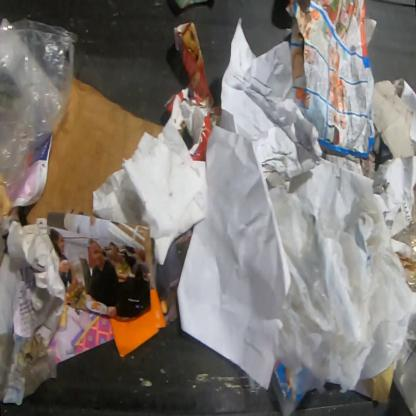cardboard: (25, 76, 165, 224), (164, 23, 221, 162), (369, 76, 415, 196), (108, 288, 169, 358), (0, 171, 13, 221)
soft_plastic: (266, 170, 363, 396), (321, 190, 415, 388), (0, 17, 79, 203), (0, 330, 59, 403), (271, 360, 308, 415), (390, 220, 415, 253), (405, 270, 415, 294)
